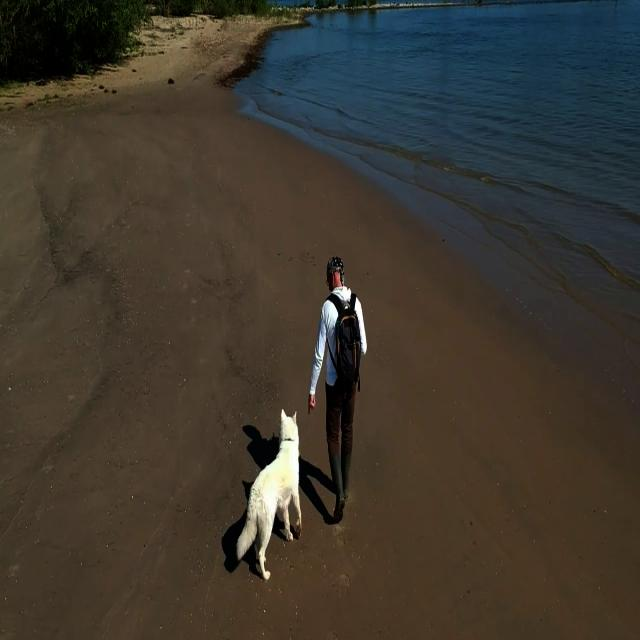Unleashed_Dog: (235, 406, 342, 582)
